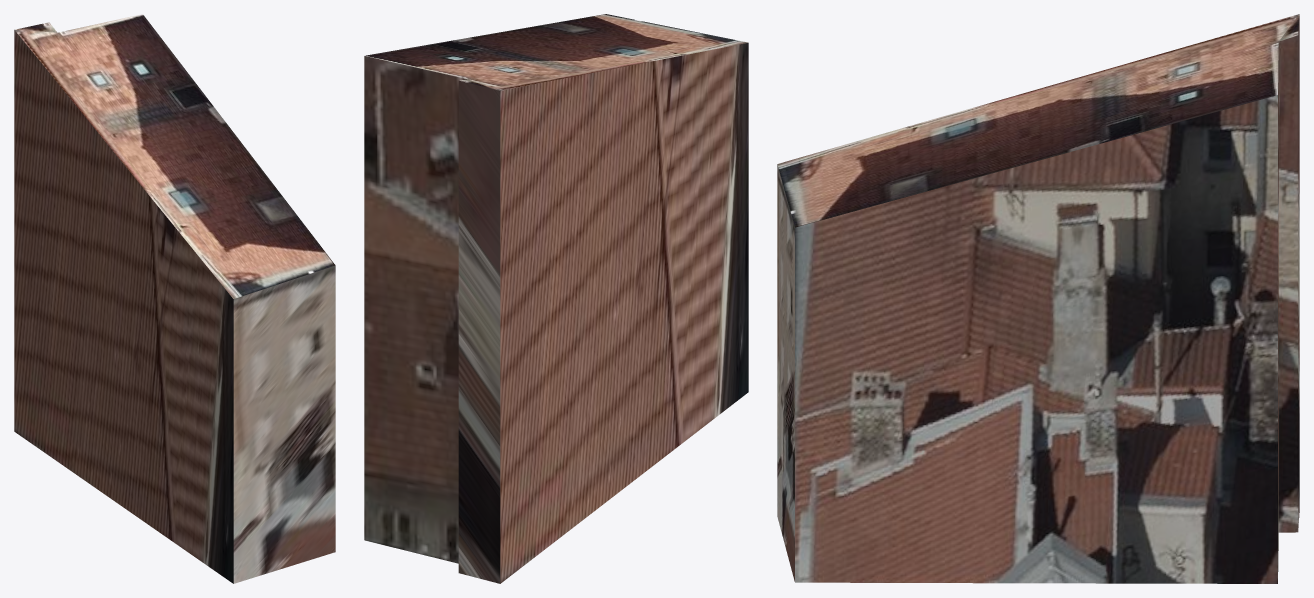
3 views of the same model, side by side, from view 1: azimuth 30°, elevation 25°; view 2: azimuth 150°, elevation 25°; view 3: azimuth 270°, elevation 25° (orthographic). The views are drawn at different scales.
Parts seen in each view (by area): view 1: Z_UP; view 2: Z_UP; view 3: Z_UP.
Part boxes in pixels (left/top/right/bottom): Z_UP: left=14, top=14, right=335, bottom=583; Z_UP: left=364, top=14, right=748, bottom=583; Z_UP: left=777, top=14, right=1299, bottom=583.
Bounding box in the file's own units: 5.31 × 17.04 × 16.2.
2 materials, 1 textured.
